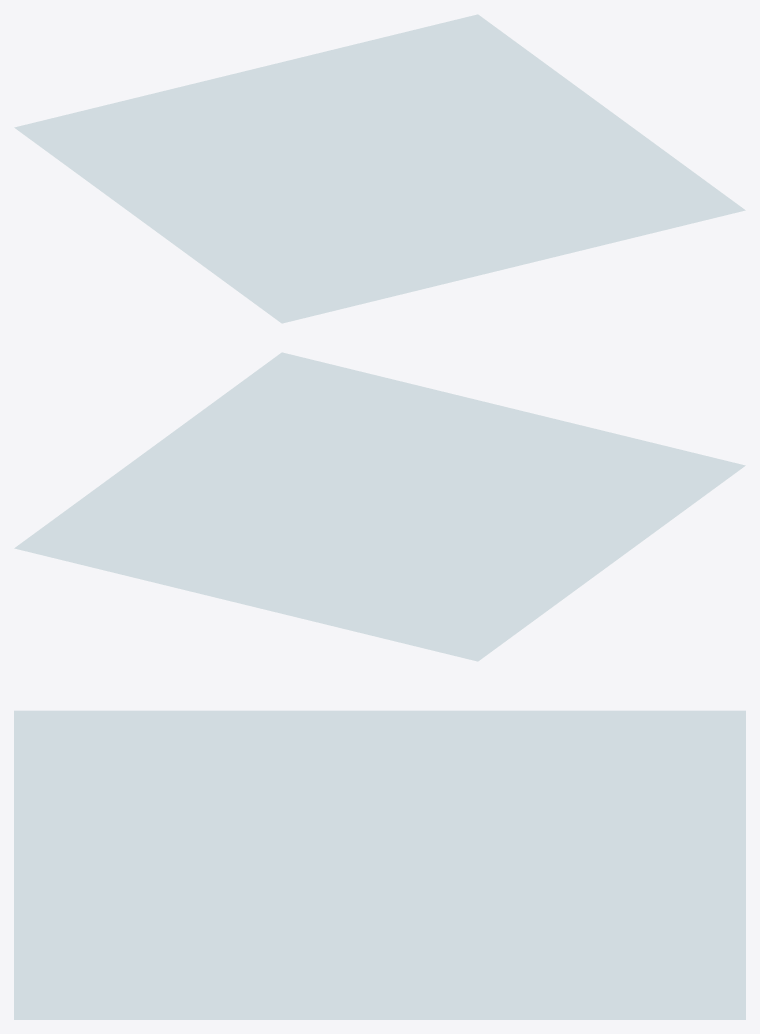
The picture shows the model from 3 angles, top to bottom: view 1: azimuth 30°, elevation 25°; view 2: azimuth 150°, elevation 25°; view 3: azimuth 270°, elevation 25°; orthographic projection. The views are drawn at different scales.
Visible parts, largest first — view 1: cube; view 2: cube; view 3: cube.
Boxes of the visible parts, x1=… form: cube: x1=14, y1=14, x2=745, y2=323; cube: x1=14, y1=352, x2=745, y2=661; cube: x1=14, y1=710, x2=745, y2=1019.
Size of the model in its own units: 8 by 1.06 by 8.
Materials: 1 (1 with a texture image).
